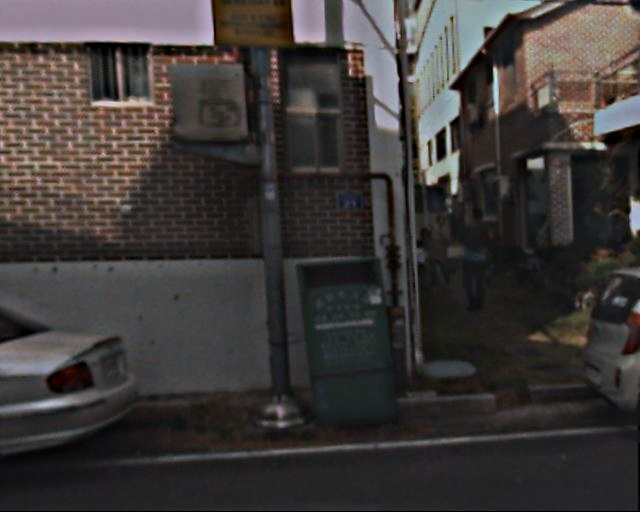person: (448, 207, 497, 312), (422, 217, 454, 295)
